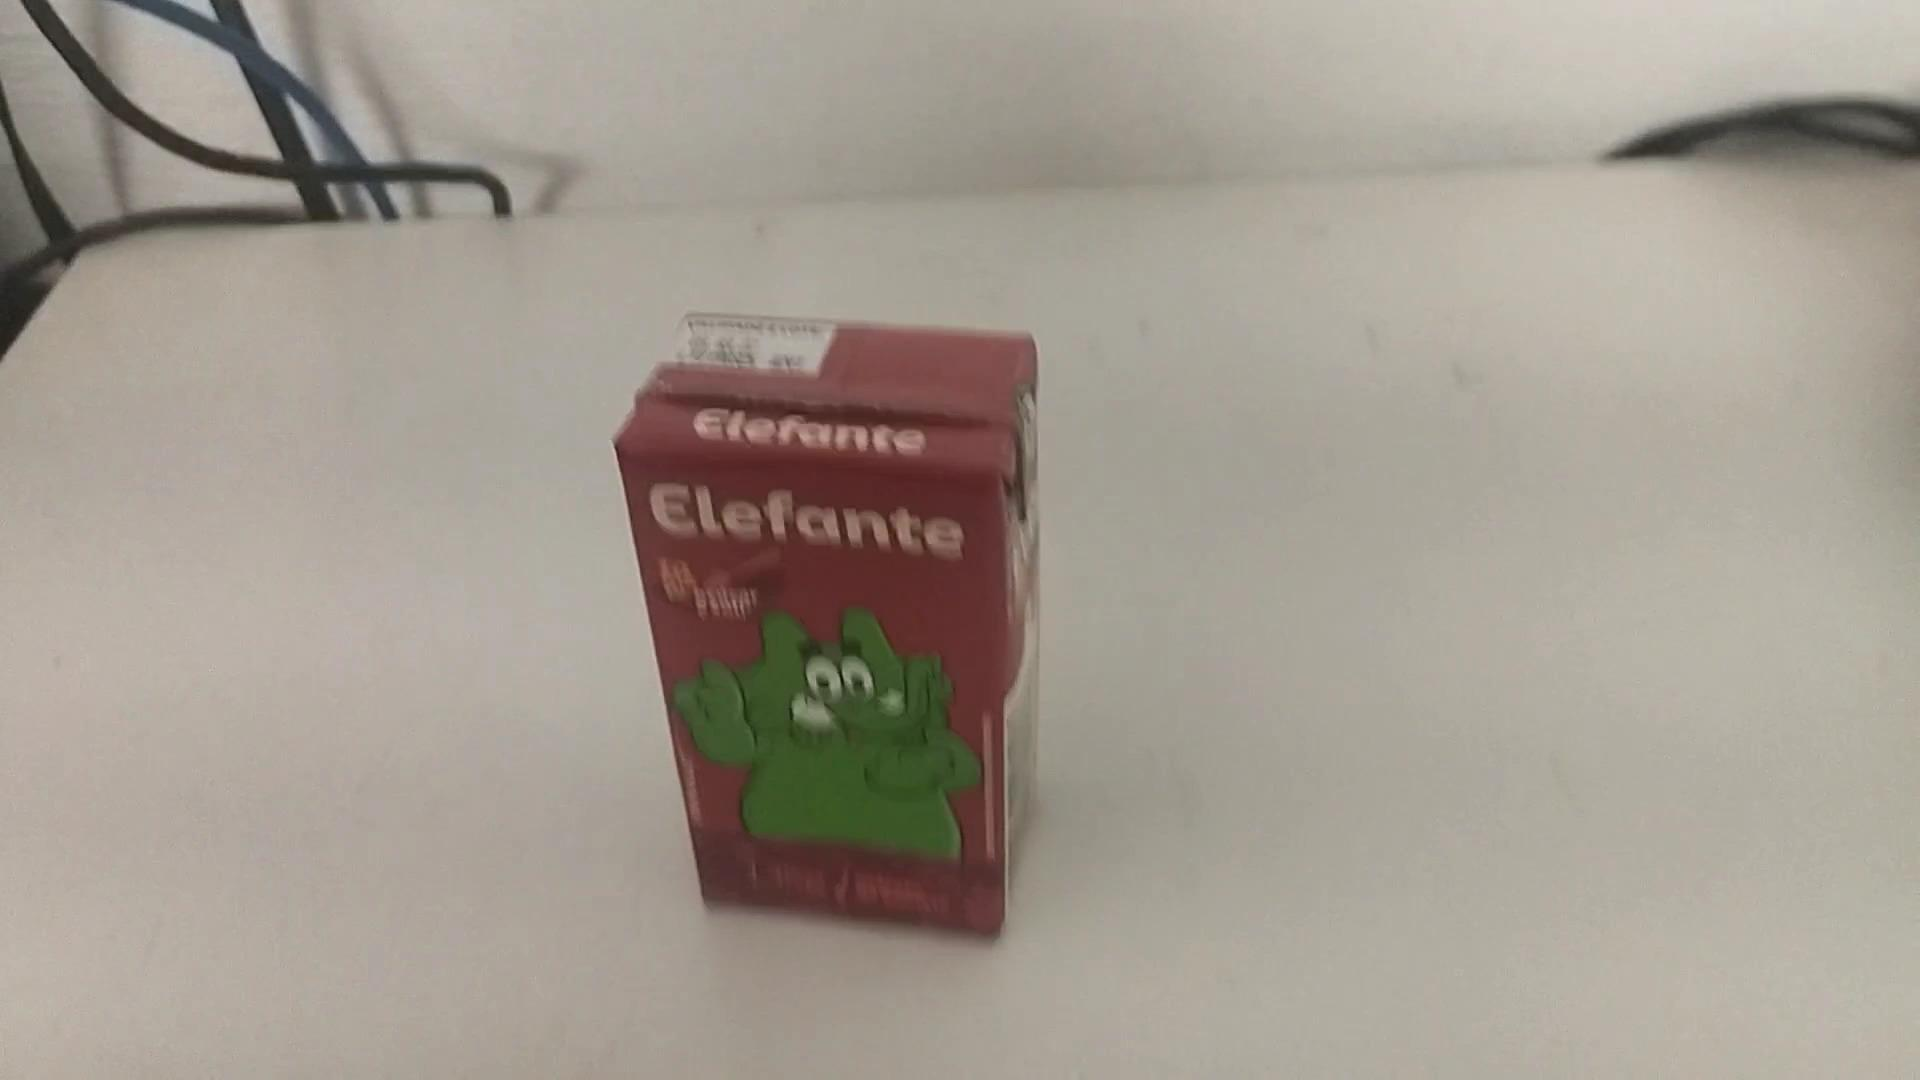tomate: (603, 310, 1050, 947)
